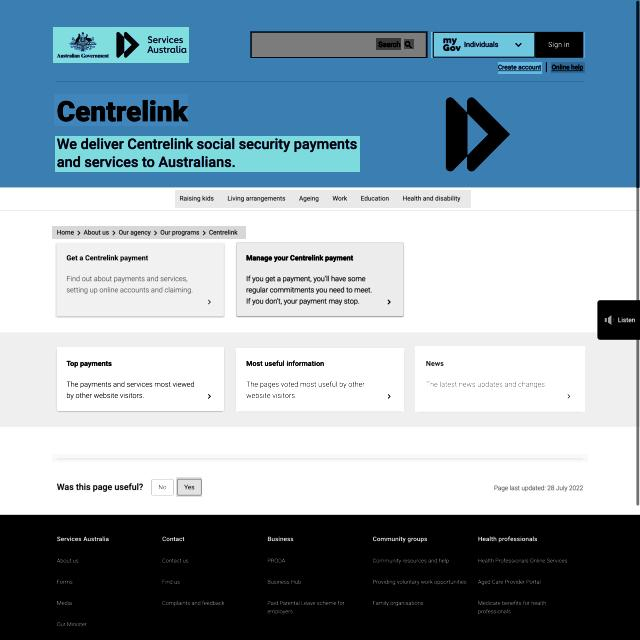CheckBox: (534, 32, 585, 58), (498, 62, 542, 74), (176, 477, 202, 497), (150, 477, 175, 496), (551, 62, 585, 73)
CheckedTextView: (251, 31, 428, 58)
Input field: (55, 136, 360, 172)
SeekBar: (52, 226, 246, 239)
Spinner: (55, 243, 225, 318), (236, 242, 404, 317), (415, 346, 585, 412), (57, 347, 224, 412), (236, 348, 404, 412)
accordion: (52, 454, 588, 462)
alert: (431, 32, 536, 58)
badge: (0, 514, 640, 640)
bag: (0, 0, 640, 188)
carousel: (601, 313, 615, 329), (404, 39, 414, 49)
data feed: (376, 38, 401, 50)
date picker: (53, 27, 189, 63)
decoration: (175, 190, 471, 208)
image: (54, 94, 188, 126)
